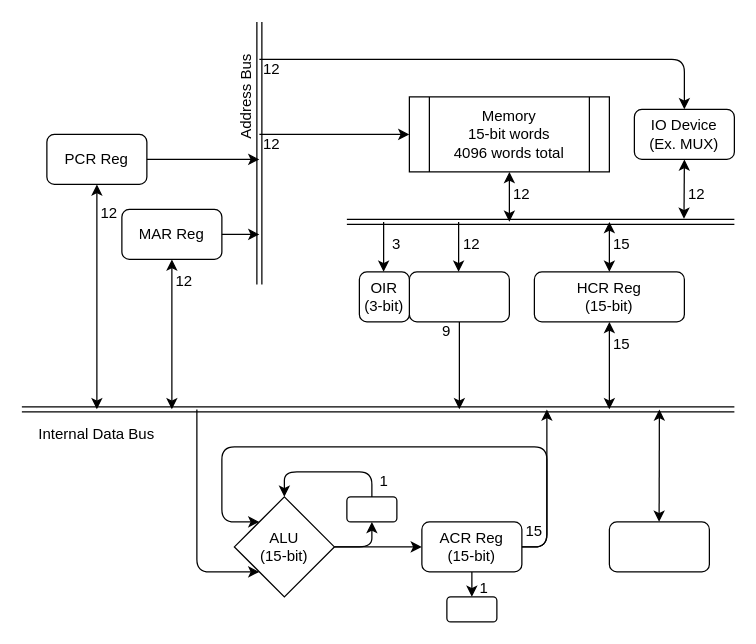
This 756x644 diagram has some shape labels left out. Each missing label, with the centre of its shape:
"AIR Reg (12-bit)" goes at [458,296].
"BFR Reg (15-bit)" goes at [658,546].
"Carry" goes at [371,509].
"Zero" goes at [471,609].
